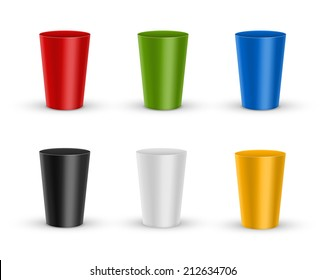plastic_glass: (213, 139, 302, 249), (30, 18, 116, 131), (216, 5, 293, 129), (111, 138, 195, 249), (126, 9, 201, 133), (26, 138, 98, 254)
